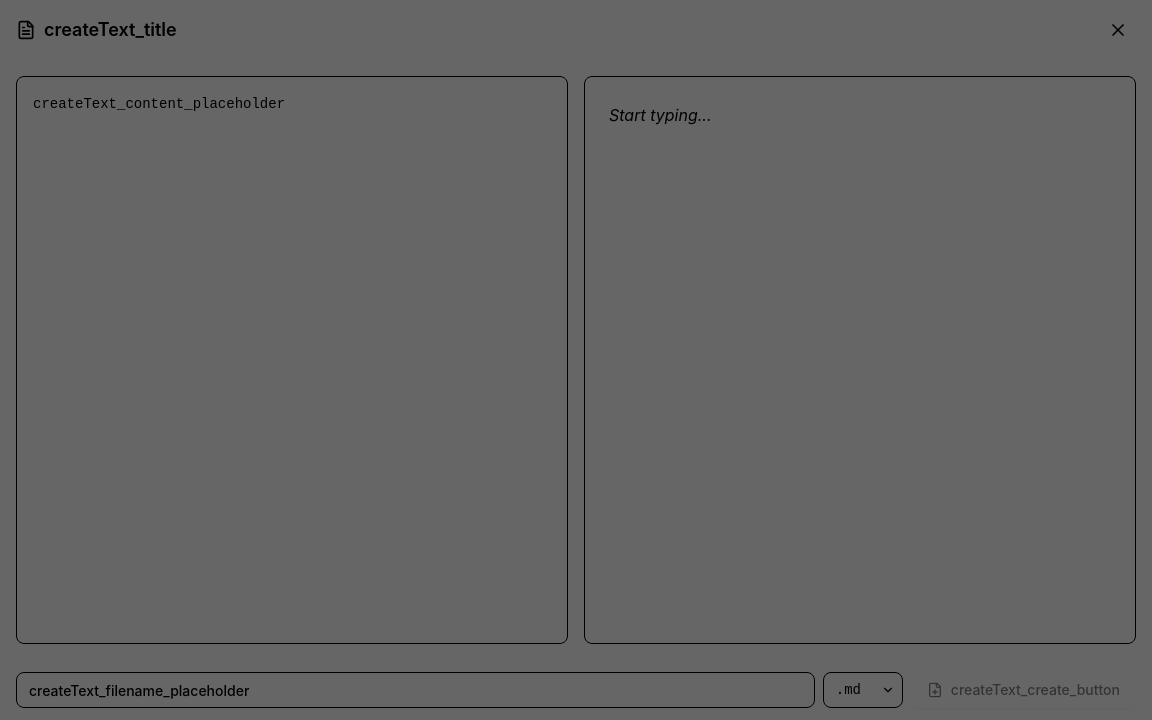
CreateTextFileEditor extension preference › remembers the last selected extension for new files
The width and height of the screenshot is (1152, 720).
Select ".txt" in the dropdown named "File Extension" at (863, 690), box x1=823 y1=672 x2=903 y2=708
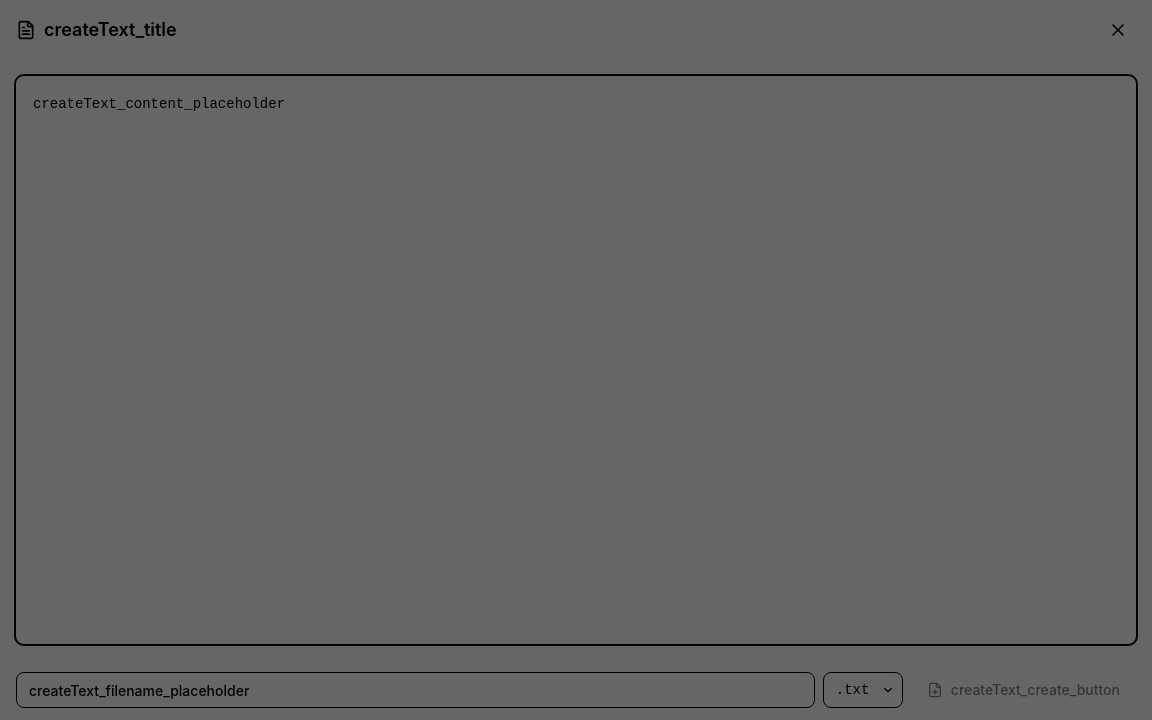
Result: the dropdown named "File Extension" shows ".txt" at x1=823 y1=672 x2=903 y2=708
